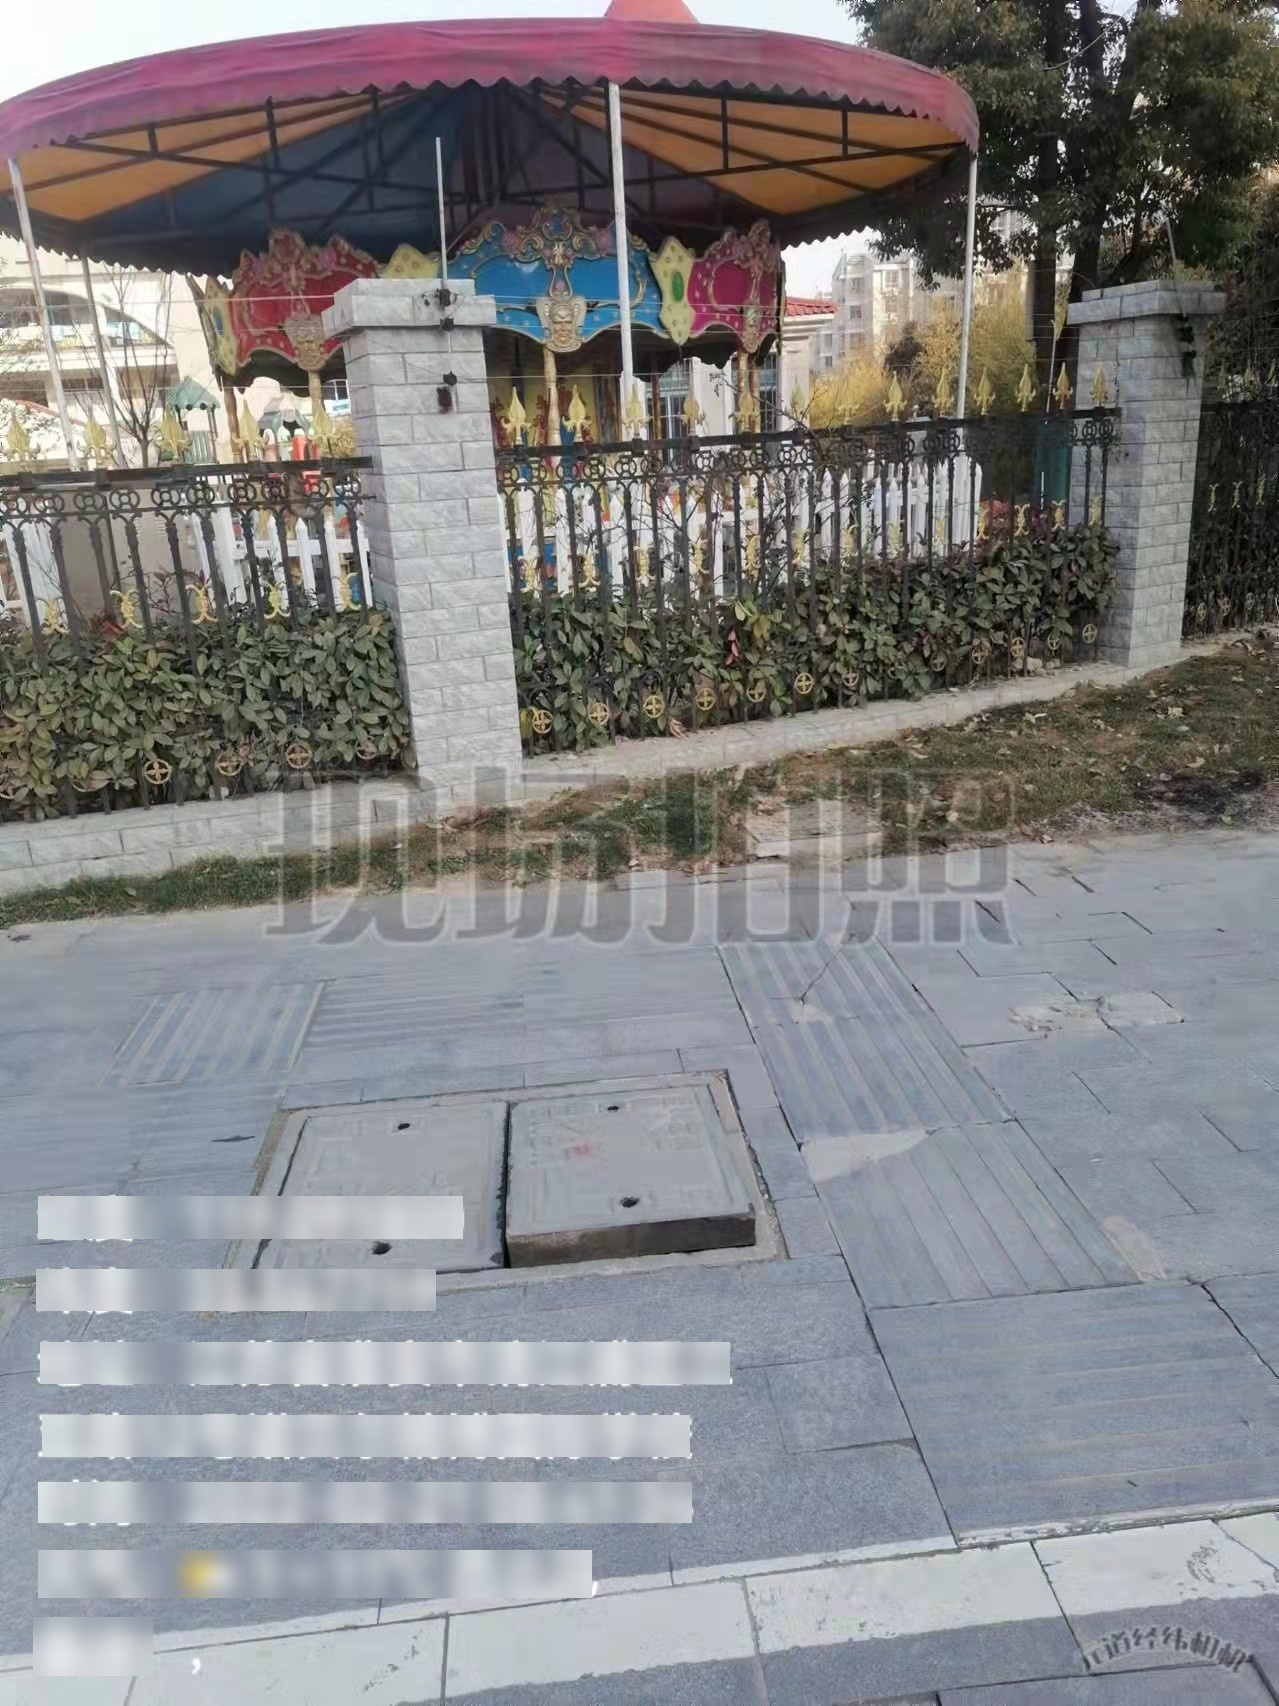uncovered: (212, 1075, 795, 1311)
